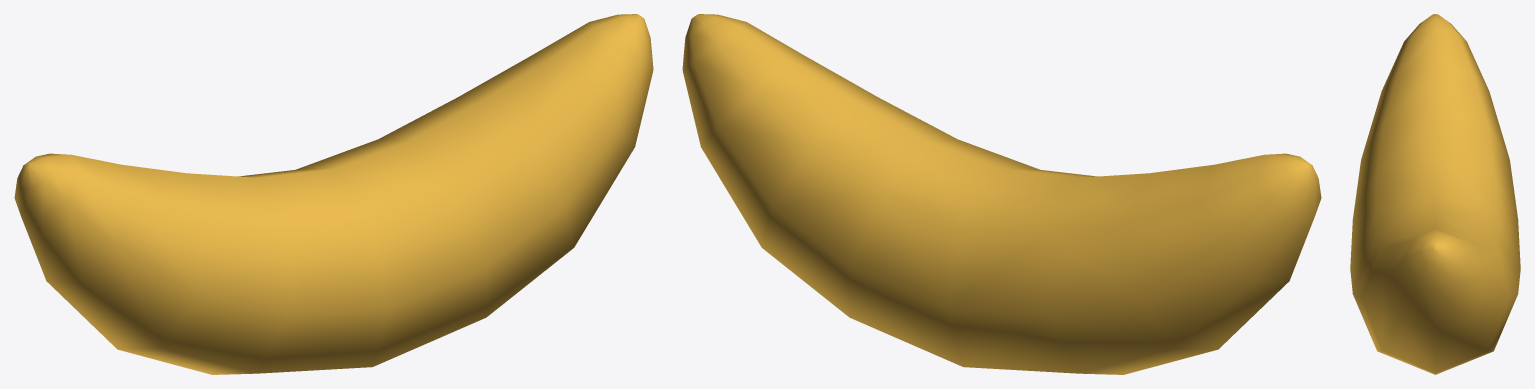
Rendered from Banana_01.fbx.
The picture shows the model from 3 angles, left to right: view 1: azimuth 30°, elevation 25°; view 2: azimuth 150°, elevation 25°; view 3: azimuth 270°, elevation 25°; orthographic projection. The views are drawn at different scales.
Visible parts, largest first — view 1: Banana_01; view 2: Banana_01; view 3: Banana_01.
Part boxes in pixels (x1=…): Banana_01: x1=14, y1=14, x2=653, y2=374; Banana_01: x1=682, y1=14, x2=1321, y2=374; Banana_01: x1=1350, y1=14, x2=1520, y2=374.
Size of the model in its own units: 0.3912 by 0.1673 by 0.1185.
